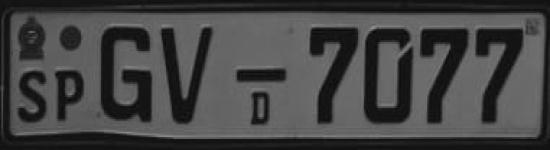-: (233, 58, 292, 90)
0: (362, 22, 419, 128)
7: (472, 24, 533, 130), (303, 24, 363, 128), (420, 23, 474, 133)
G: (95, 21, 155, 129)
P: (50, 66, 88, 126)
S: (16, 64, 51, 126)
V: (158, 20, 220, 128)
